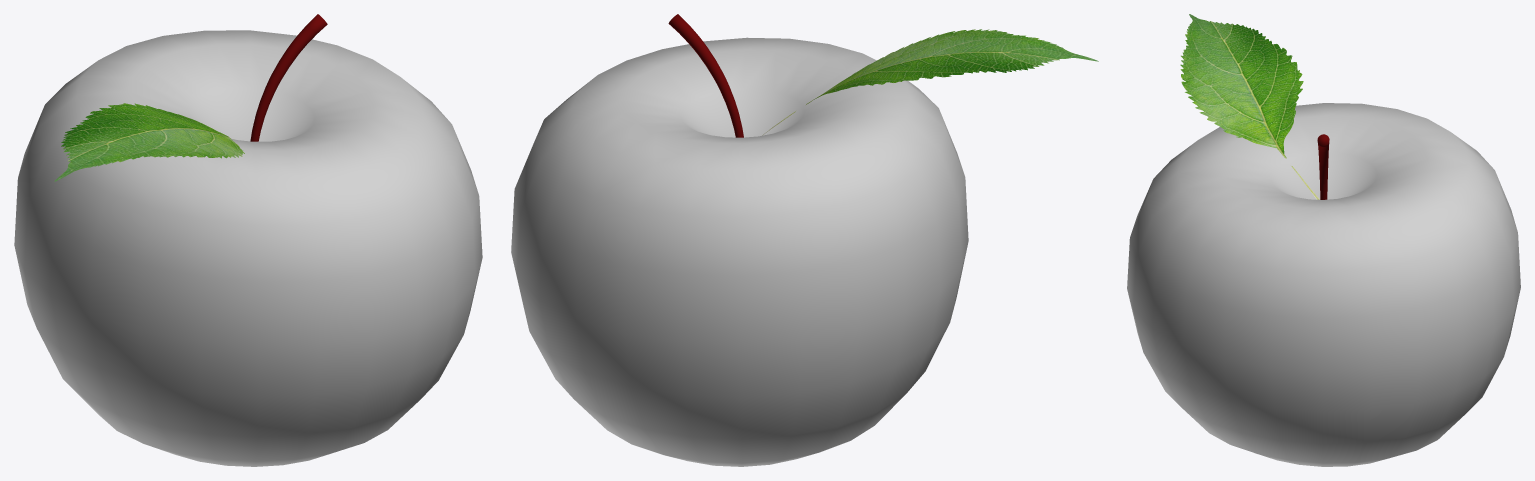
3 renders of one model, left to right at view 1: azimuth 30°, elevation 25°; view 2: azimuth 150°, elevation 25°; view 3: azimuth 270°, elevation 25°, orthographic. The views are drawn at different scales.
Visible parts, largest first — view 1: group_2, group_3, group_1; view 2: group_2, group_3, group_1; view 3: group_2, group_3, group_1.
Boxes of the visible parts, x1,y1,x2,y2 form: group_2: [14, 30, 482, 466]; group_3: [54, 103, 244, 181]; group_1: [250, 14, 327, 141]; group_2: [511, 37, 968, 466]; group_3: [762, 29, 1098, 135]; group_1: [668, 14, 743, 137]; group_2: [1127, 103, 1520, 466]; group_3: [1180, 14, 1319, 199]; group_1: [1317, 134, 1329, 199].
Bounding box in the file's own units: 8.43 × 7.31 × 6.8.
